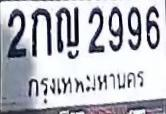2: (7, 8, 26, 58), (87, 6, 104, 53)
6: (145, 6, 159, 50)
9: (107, 6, 124, 51), (127, 6, 141, 50)
A01: (30, 7, 51, 56)
A13: (55, 6, 79, 53)
BKK: (20, 66, 150, 104)
